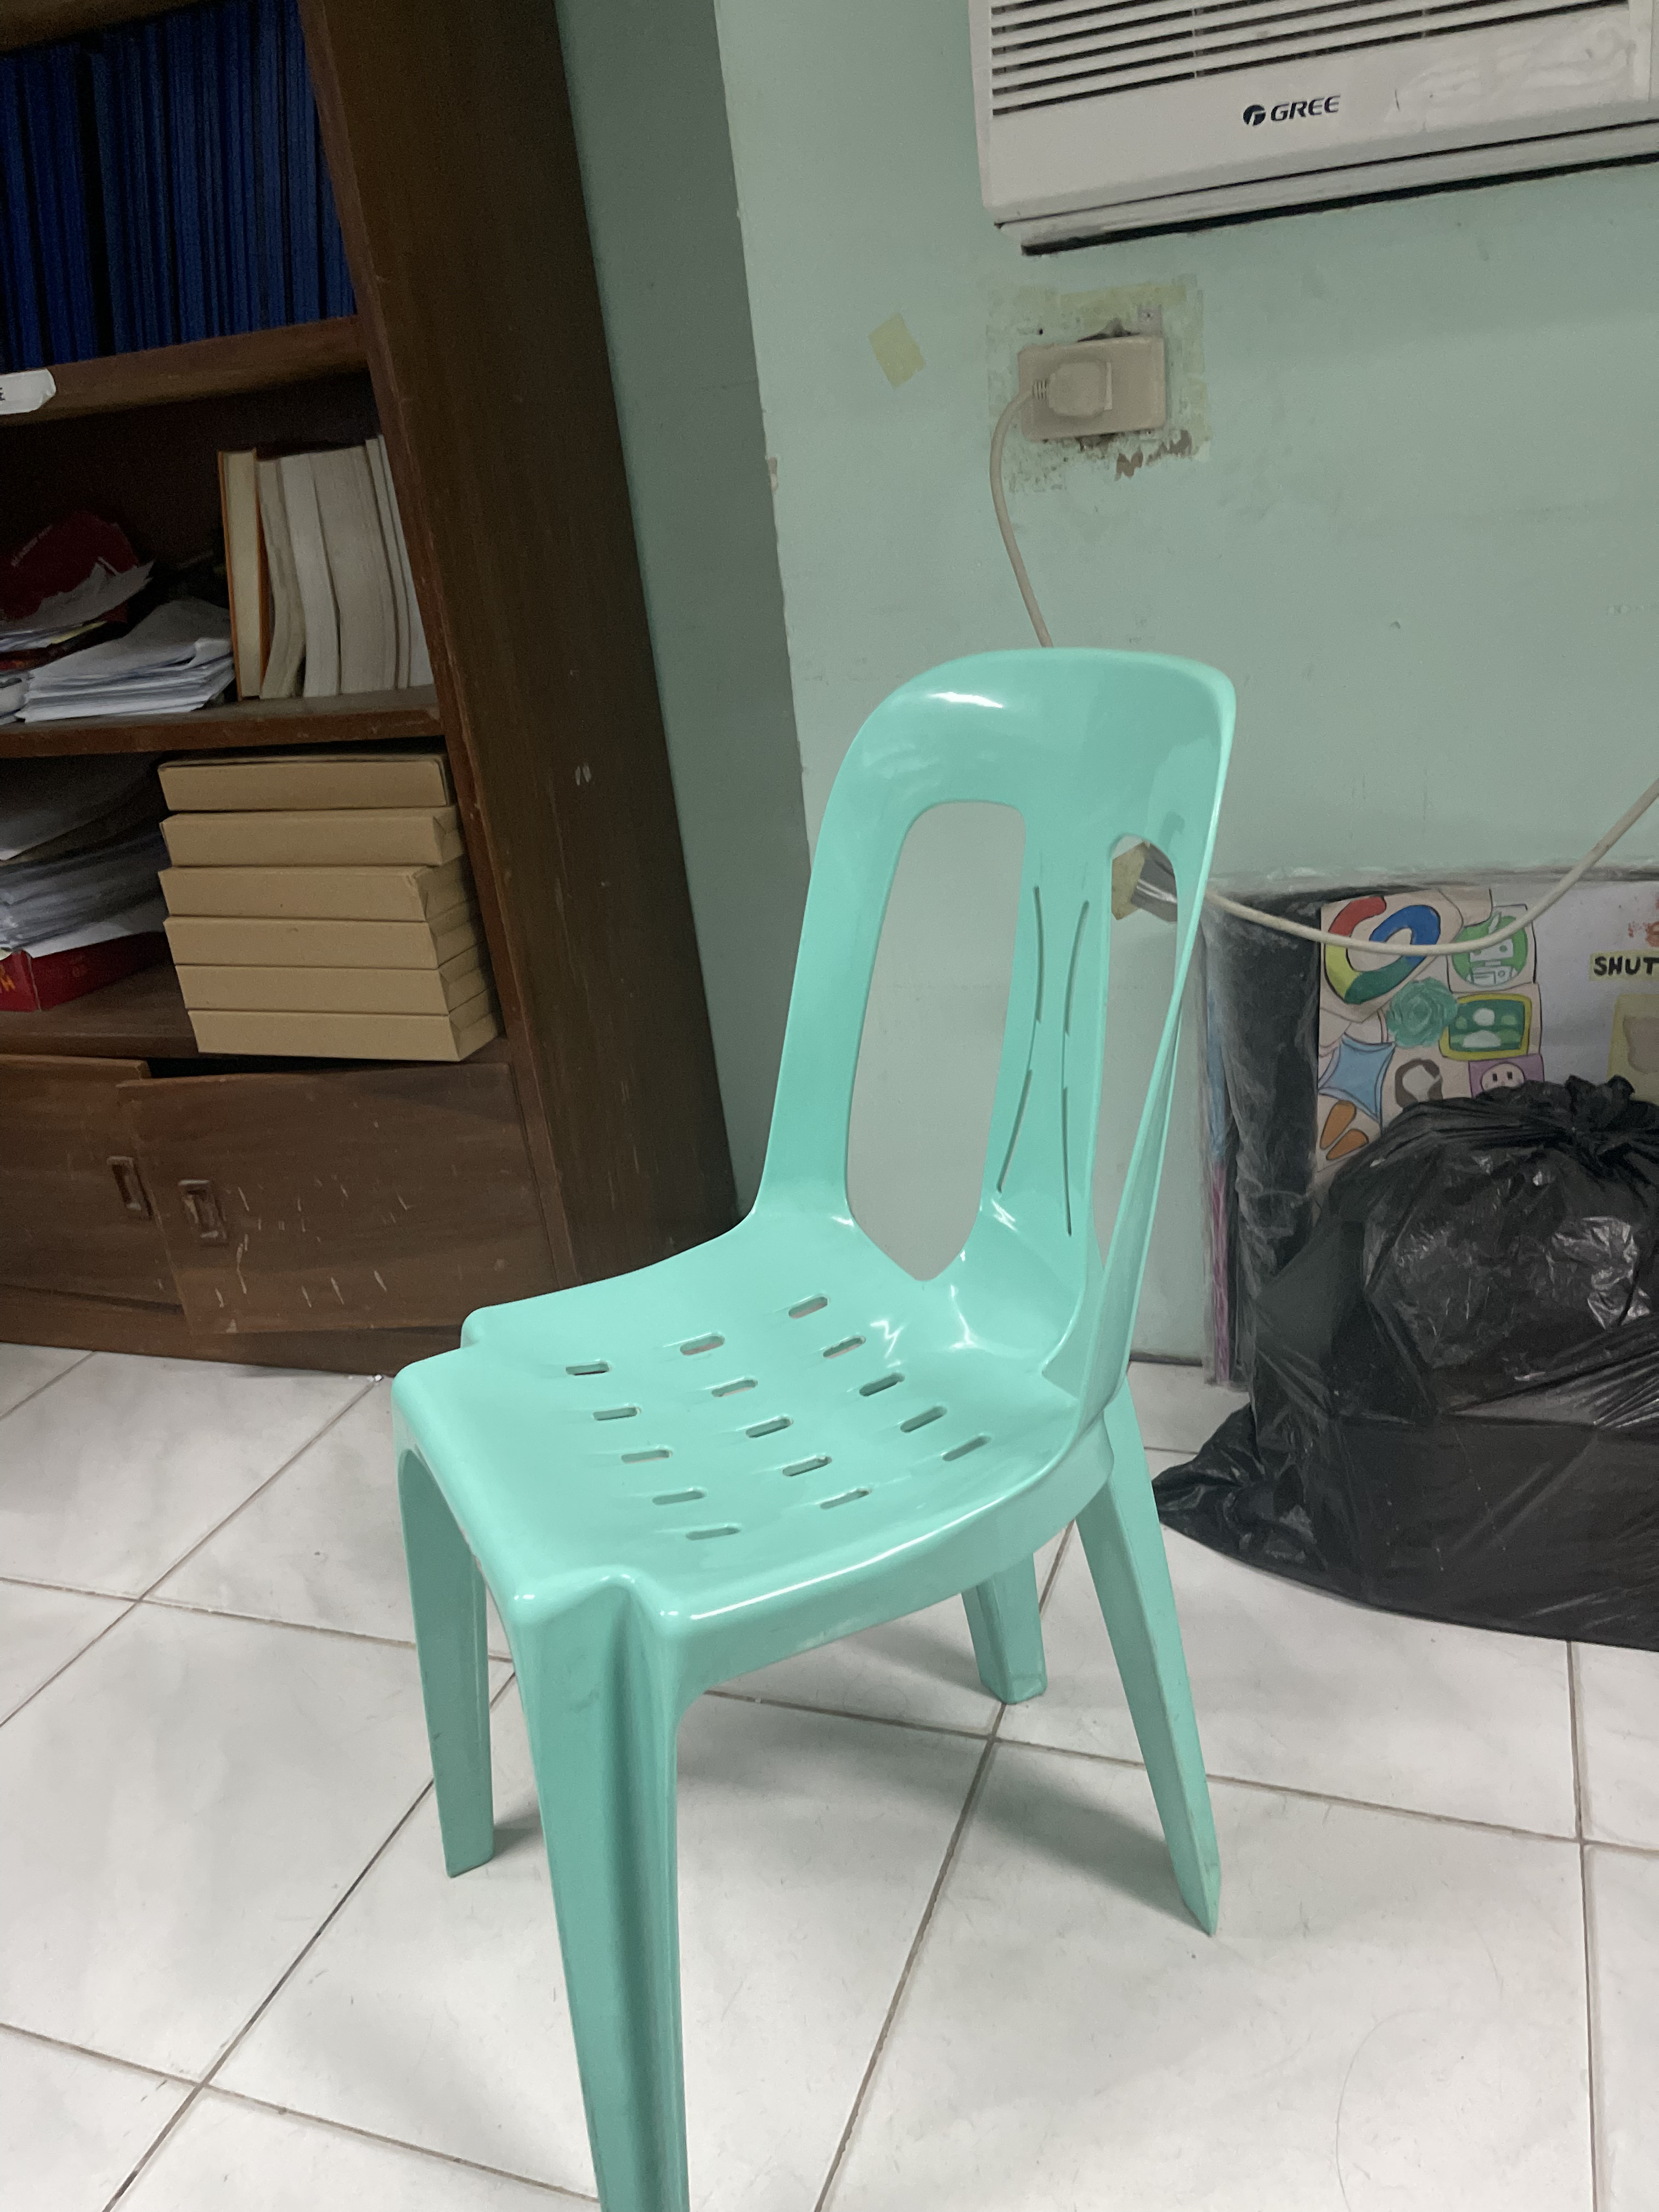chair2: (385, 636, 1237, 2212)
